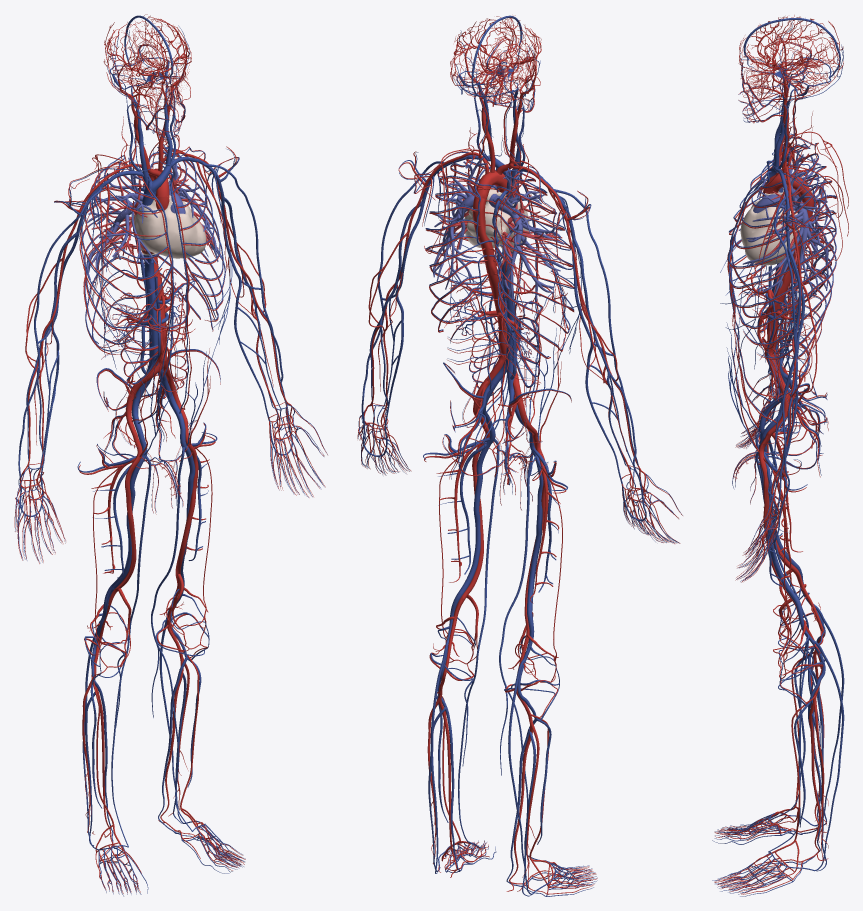
The model's file is adult_male.cardiovascular.LOD1.glb.
The picture shows the model from 3 angles, left to right: view 1: azimuth 30°, elevation 25°; view 2: azimuth 150°, elevation 25°; view 3: azimuth 270°, elevation 25°; orthographic projection. The views are drawn at different scales.
Parts seen in each view (by area): view 1: ADULT.MALE.CARDIOVASCULAR.PERICARDIUM, ADULT.MALE.CARDIOVASCULAR.RIGHT_SUPERIOR_INTERCOSTAL_VEIN, ADULT.MALE.CARDIOVASCULAR.POSTERIOR_INTERCOSTAL_ARTERIES.R, ADULT.MALE.CARDIOVASCULAR.LEFT_SUPERIOR_INTERCOSTAL_VEIN, ADULT.MALE.CARDIOVASCULAR.GREAT_SAPHENOUS_VEIN.L, ADULT.MALE.CARDIOVASCULAR.GREAT_SAPHENOUS_VEIN.R, ADULT.MALE.CARDIOVASCULAR.FEMORAL_ARTERY.R, ADULT.MALE.CARDIOVASCULAR.POSTERIOR_INTERCOSTAL_ARTERIES.L, ADULT.MALE.CARDIOVASCULAR.CEPHALIC_VEIN.R, ADULT.MALE.CARDIOVASCULAR.FEMORAL_ARTERY.L, ADULT.MALE.CARDIOVASCULAR.CEPHALIC_VEIN.L, ADULT.MALE.CARDIOVASCULAR.FEMORAL_VEIN.R (+1 smaller); view 2: ADULT.MALE.CARDIOVASCULAR.POSTERIOR_INTERCOSTAL_ARTERIES.R, ADULT.MALE.CARDIOVASCULAR.RIGHT_SUPERIOR_INTERCOSTAL_VEIN, ADULT.MALE.CARDIOVASCULAR.LEFT_SUPERIOR_INTERCOSTAL_VEIN, ADULT.MALE.CARDIOVASCULAR.POSTERIOR_INTERCOSTAL_ARTERIES.L, ADULT.MALE.CARDIOVASCULAR.GREAT_SAPHENOUS_VEIN.L, ADULT.MALE.CARDIOVASCULAR.PERICARDIUM, ADULT.MALE.CARDIOVASCULAR.GREAT_SAPHENOUS_VEIN.R, ADULT.MALE.CARDIOVASCULAR.FEMORAL_VEIN.L, ADULT.MALE.CARDIOVASCULAR.FEMORAL_VEIN.R, ADULT.MALE.CARDIOVASCULAR.CEPHALIC_VEIN.R, ADULT.MALE.CARDIOVASCULAR.THORACIC_AORTA, ADULT.MALE.CARDIOVASCULAR.BASILIC_VEIN.R (+5 smaller); view 3: ADULT.MALE.CARDIOVASCULAR.LEFT_SUPERIOR_INTERCOSTAL_VEIN, ADULT.MALE.CARDIOVASCULAR.PERICARDIUM, ADULT.MALE.CARDIOVASCULAR.POSTERIOR_INTERCOSTAL_ARTERIES.L, ADULT.MALE.CARDIOVASCULAR.CEPHALIC_VEIN.L, ADULT.MALE.CARDIOVASCULAR.RIGHT_SUPERIOR_INTERCOSTAL_VEIN, ADULT.MALE.CARDIOVASCULAR.SMALL_SAPHENOUS_VEIN.L, ADULT.MALE.CARDIOVASCULAR.FEMORAL_ARTERY.L, ADULT.MALE.CARDIOVASCULAR.ABDOMINAL_AORTA, ADULT.MALE.CARDIOVASCULAR.GREAT_SAPHENOUS_VEIN.R, ADULT.MALE.CARDIOVASCULAR.SMALL_SAPHENOUS_VEIN.R, ADULT.MALE.CARDIOVASCULAR.GREAT_SAPHENOUS_VEIN.L, ADULT.MALE.CARDIOVASCULAR.POSTERIOR_INTERCOSTAL_ARTERIES.R (+22 smaller).
Boxes of the visible parts, bbox=[...] form: ADULT.MALE.CARDIOVASCULAR.PERICARDIUM: bbox=[133, 195, 206, 258]; ADULT.MALE.CARDIOVASCULAR.RIGHT_SUPERIOR_INTERCOSTAL_VEIN: bbox=[81, 155, 172, 351]; ADULT.MALE.CARDIOVASCULAR.POSTERIOR_INTERCOSTAL_ARTERIES.R: bbox=[79, 163, 169, 354]; ADULT.MALE.CARDIOVASCULAR.LEFT_SUPERIOR_INTERCOSTAL_VEIN: bbox=[144, 147, 225, 330]; ADULT.MALE.CARDIOVASCULAR.GREAT_SAPHENOUS_VEIN.L: bbox=[151, 447, 192, 831]; ADULT.MALE.CARDIOVASCULAR.GREAT_SAPHENOUS_VEIN.R: bbox=[111, 456, 151, 846]; ADULT.MALE.CARDIOVASCULAR.FEMORAL_ARTERY.R: bbox=[115, 431, 142, 590]; ADULT.MALE.CARDIOVASCULAR.POSTERIOR_INTERCOSTAL_ARTERIES.L: bbox=[149, 153, 225, 331]; ADULT.MALE.CARDIOVASCULAR.CEPHALIC_VEIN.R: bbox=[18, 187, 101, 488]; ADULT.MALE.CARDIOVASCULAR.FEMORAL_ARTERY.L: bbox=[175, 419, 198, 575]; ADULT.MALE.CARDIOVASCULAR.CEPHALIC_VEIN.L: bbox=[202, 162, 289, 422]; ADULT.MALE.CARDIOVASCULAR.FEMORAL_VEIN.R: bbox=[112, 438, 147, 588]; ADULT.MALE.CARDIOVASCULAR.POSTERIOR_INTERCOSTAL_ARTERIES.R: bbox=[478, 187, 574, 358]; ADULT.MALE.CARDIOVASCULAR.RIGHT_SUPERIOR_INTERCOSTAL_VEIN: bbox=[492, 170, 574, 357]; ADULT.MALE.CARDIOVASCULAR.LEFT_SUPERIOR_INTERCOSTAL_VEIN: bbox=[425, 156, 502, 331]; ADULT.MALE.CARDIOVASCULAR.POSTERIOR_INTERCOSTAL_ARTERIES.L: bbox=[425, 177, 501, 332]; ADULT.MALE.CARDIOVASCULAR.GREAT_SAPHENOUS_VEIN.L: bbox=[458, 439, 499, 845]; ADULT.MALE.CARDIOVASCULAR.PERICARDIUM: bbox=[464, 187, 529, 251]; ADULT.MALE.CARDIOVASCULAR.GREAT_SAPHENOUS_VEIN.R: bbox=[499, 451, 539, 859]; ADULT.MALE.CARDIOVASCULAR.FEMORAL_VEIN.L: bbox=[459, 423, 495, 594]; ADULT.MALE.CARDIOVASCULAR.FEMORAL_VEIN.R: bbox=[527, 435, 543, 610]; ADULT.MALE.CARDIOVASCULAR.CEPHALIC_VEIN.R: bbox=[554, 189, 643, 496]; ADULT.MALE.CARDIOVASCULAR.THORACIC_AORTA: bbox=[472, 196, 497, 275]; ADULT.MALE.CARDIOVASCULAR.BASILIC_VEIN.R: bbox=[572, 238, 622, 483]; ADULT.MALE.CARDIOVASCULAR.LEFT_SUPERIOR_INTERCOSTAL_VEIN: bbox=[729, 163, 836, 358]; ADULT.MALE.CARDIOVASCULAR.PERICARDIUM: bbox=[740, 190, 800, 265]; ADULT.MALE.CARDIOVASCULAR.POSTERIOR_INTERCOSTAL_ARTERIES.L: bbox=[729, 175, 836, 359]; ADULT.MALE.CARDIOVASCULAR.CEPHALIC_VEIN.L: bbox=[774, 197, 796, 519]; ADULT.MALE.CARDIOVASCULAR.RIGHT_SUPERIOR_INTERCOSTAL_VEIN: bbox=[729, 144, 836, 304]; ADULT.MALE.CARDIOVASCULAR.SMALL_SAPHENOUS_VEIN.L: bbox=[803, 640, 844, 871]; ADULT.MALE.CARDIOVASCULAR.FEMORAL_ARTERY.L: bbox=[759, 431, 793, 601]; ADULT.MALE.CARDIOVASCULAR.ABDOMINAL_AORTA: bbox=[764, 266, 793, 354]; ADULT.MALE.CARDIOVASCULAR.GREAT_SAPHENOUS_VEIN.R: bbox=[755, 432, 820, 820]; ADULT.MALE.CARDIOVASCULAR.SMALL_SAPHENOUS_VEIN.R: bbox=[803, 604, 844, 826]; ADULT.MALE.CARDIOVASCULAR.GREAT_SAPHENOUS_VEIN.L: bbox=[755, 451, 820, 851]; ADULT.MALE.CARDIOVASCULAR.POSTERIOR_INTERCOSTAL_ARTERIES.R: bbox=[729, 153, 836, 308].
Size of the model in its own units: 0.664 by 1.7 by 0.2489.
